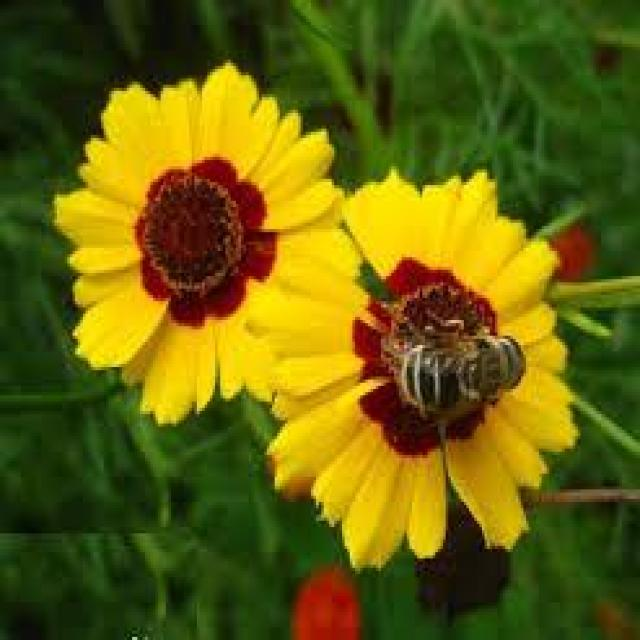organic waste: (266, 174, 584, 560), (68, 69, 344, 417)
